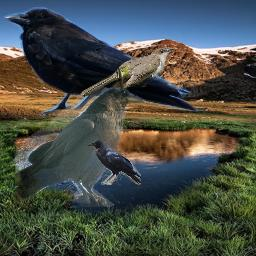Crow: (2, 7, 199, 116), (15, 87, 146, 207), (87, 139, 141, 185)
Cuckoo: (80, 47, 173, 97)
